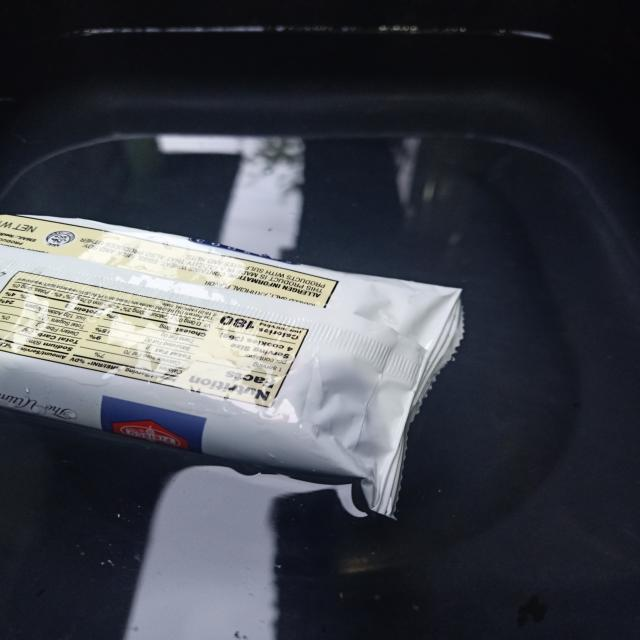Plastic Wrapper: (0, 215, 462, 516)
